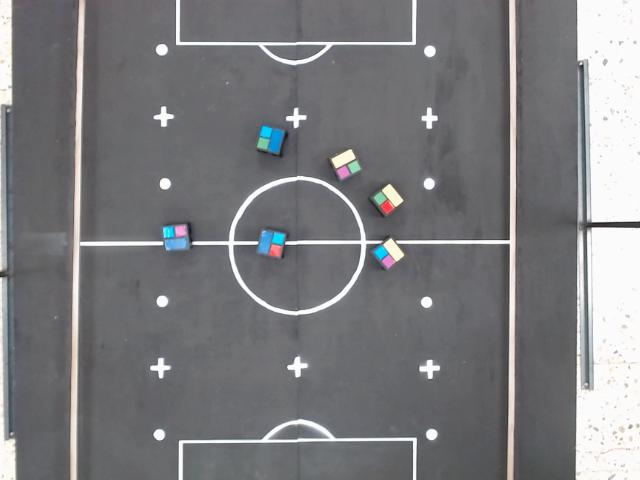robot: (367, 181, 406, 218), (369, 234, 406, 272), (328, 146, 363, 183), (254, 123, 287, 156), (254, 228, 287, 260), (161, 221, 190, 252)
